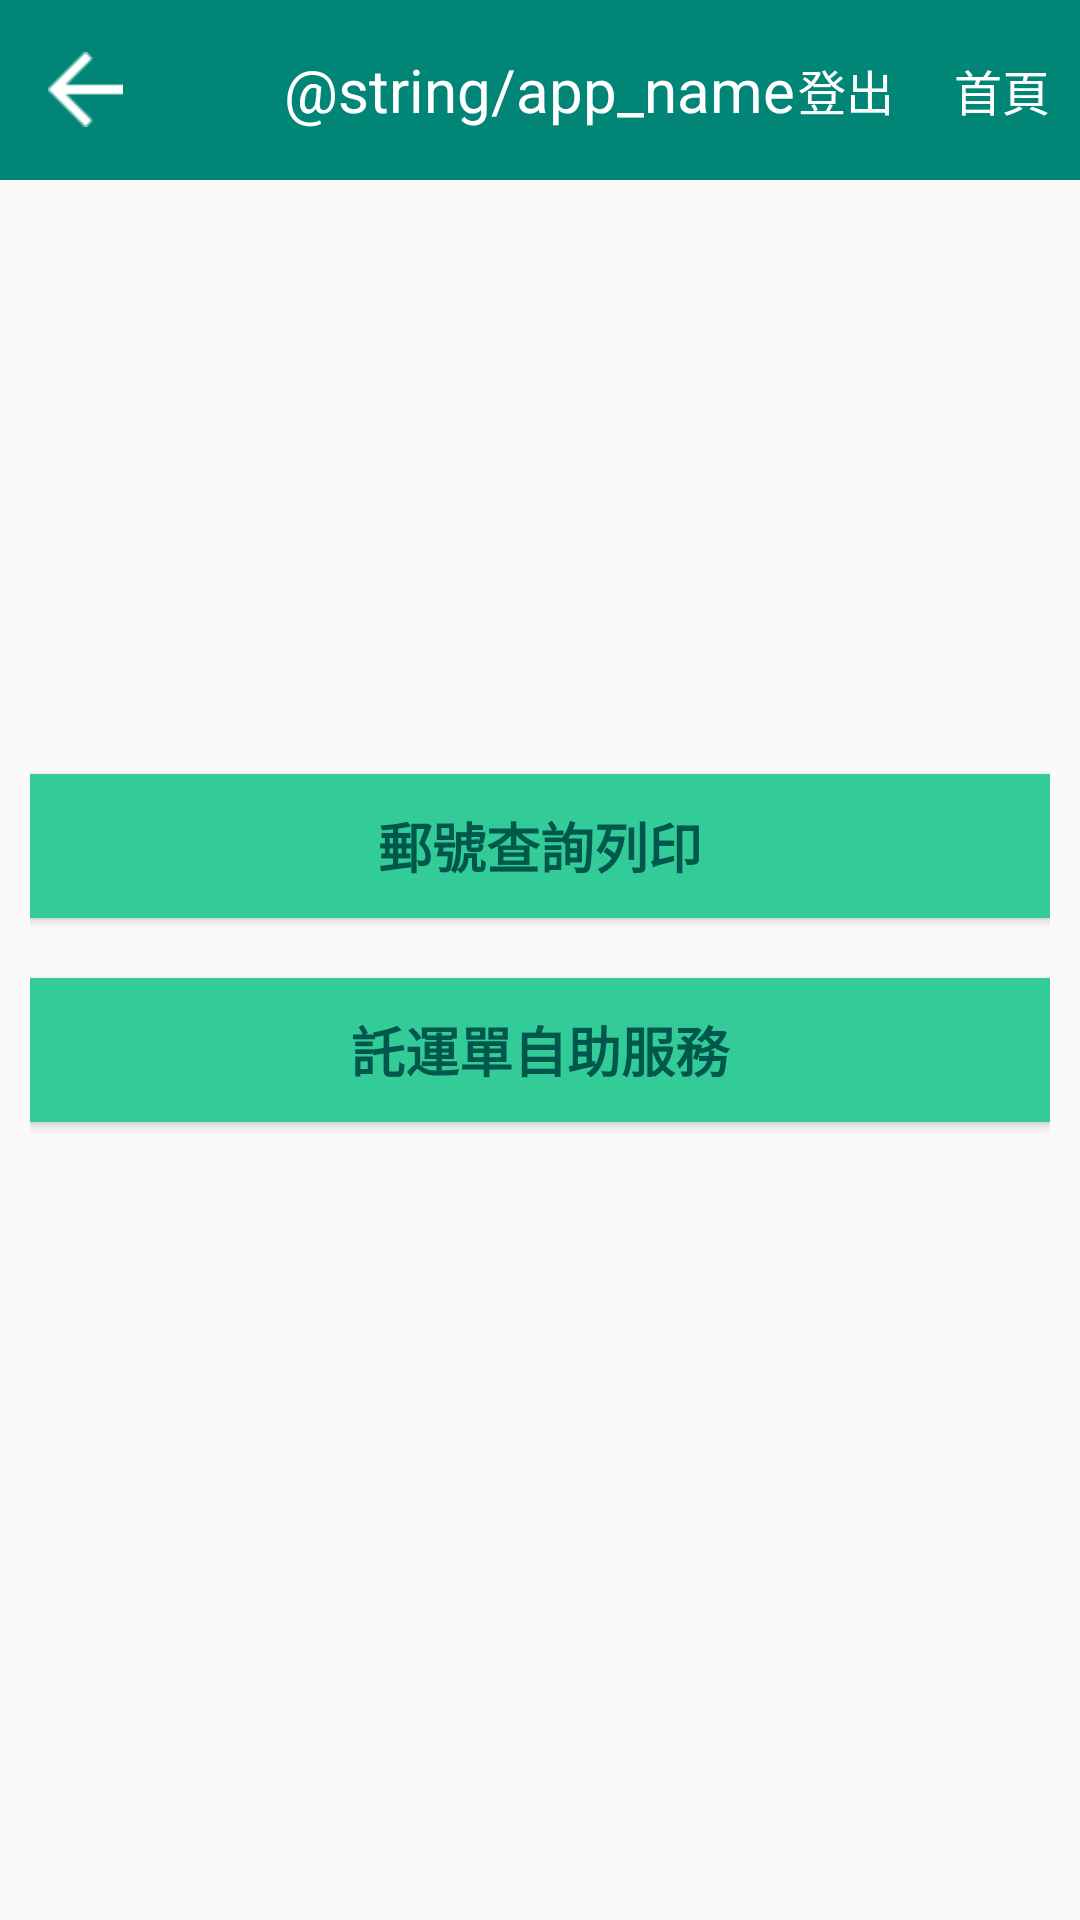

Named icons in this screenshot (1080px x 1920px) and their bounding boxes, (x1, y1, x2, y2):
back: (48, 52, 123, 127)
